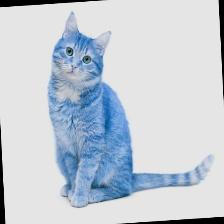kedo: (47, 11, 213, 207)
